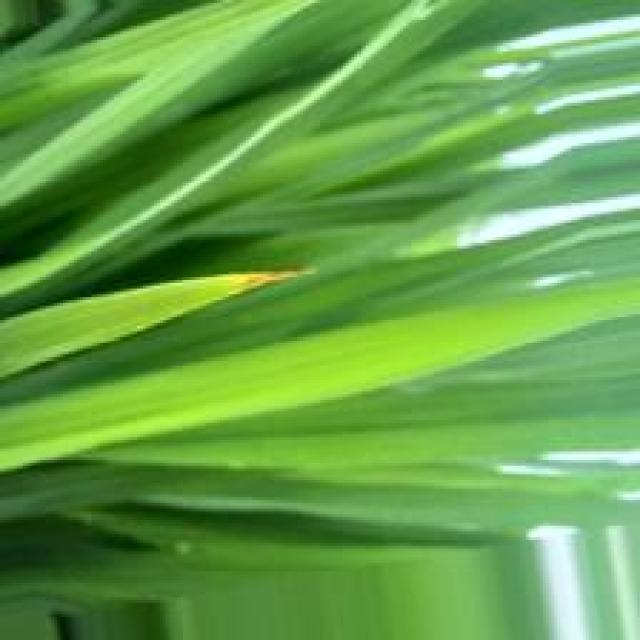HealthyLeaf: (0, 283, 640, 473), (0, 274, 230, 386)
